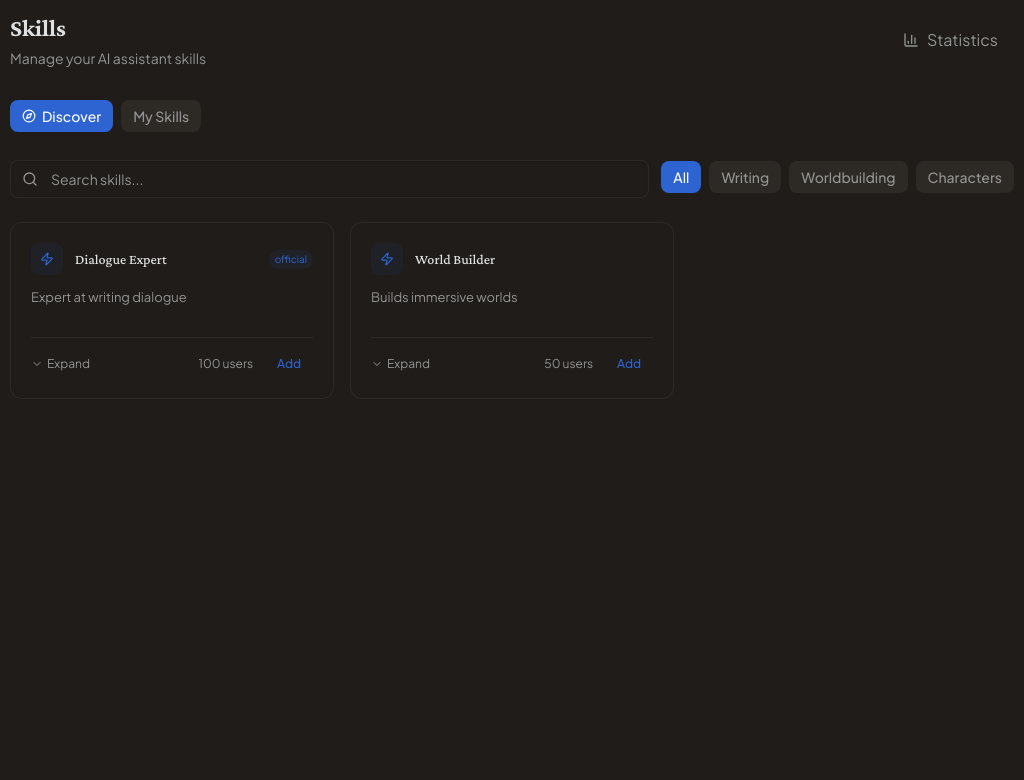
Test: SkillsPage › My Skills Tab › should display user skills
Note: Switch to my skills tab
Click the button "My Skills": x=161, y=116 [121,100,201,132]
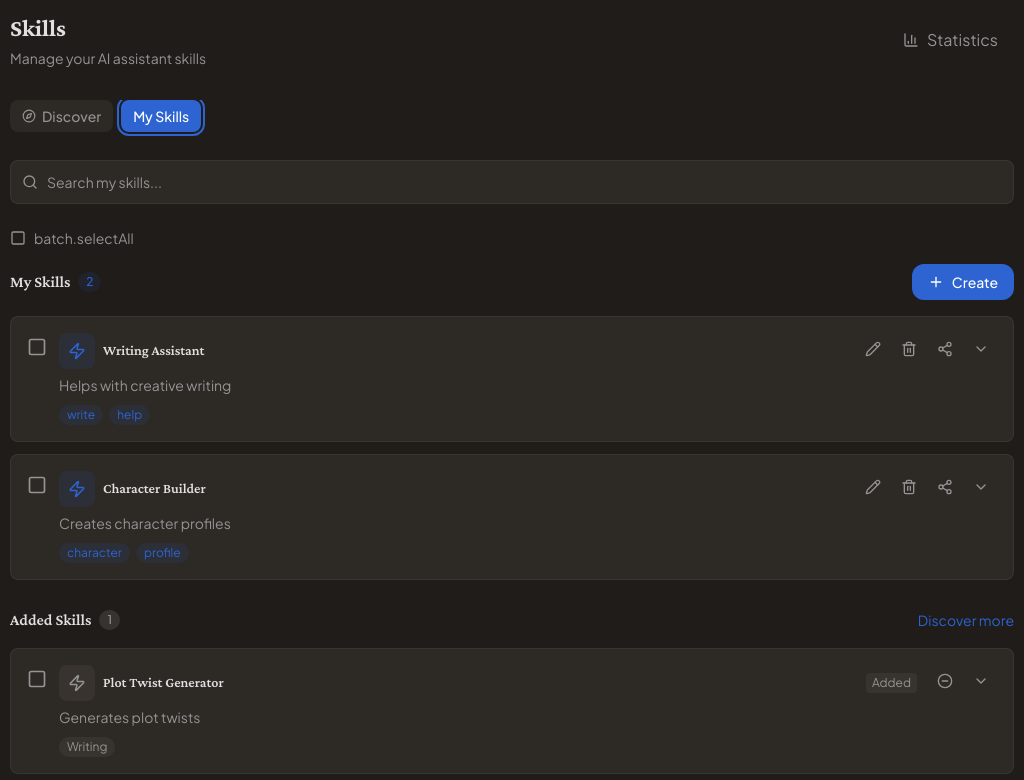
Check: the heading "Writing Assistant" is shown, box [103,342,204,358]
Check: the heading "Character Builder" is shown, box [103,480,206,496]
